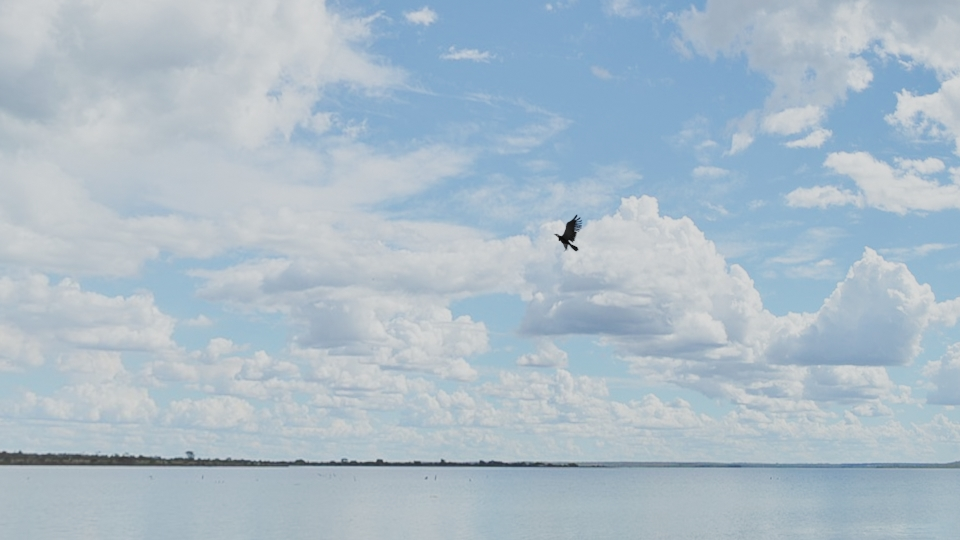bird: (556, 215, 579, 251)
